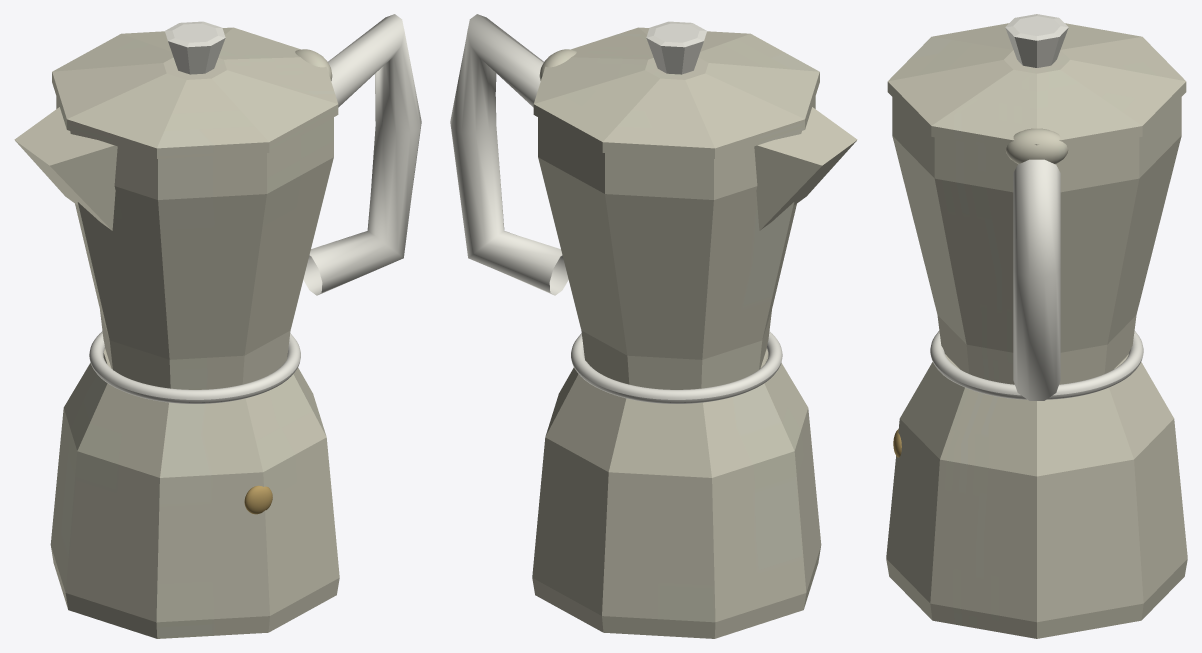
The model's file is cookware__white_moka_pot.glb.
3 renders of one model, left to right at view 1: azimuth 30°, elevation 25°; view 2: azimuth 150°, elevation 25°; view 3: azimuth 270°, elevation 25°, orthographic.
Visible parts, largest first — view 1: collector, boiler, lid; view 2: collector, boiler, lid; view 3: boiler, collector, lid.
Part boxes in pixels (left/top/right/bottom): collector: left=14, top=14, right=421, bottom=403; boiler: left=50, top=348, right=339, bottom=638; lid: left=52, top=21, right=338, bottom=158; collector: left=450, top=14, right=857, bottom=403; boiler: left=532, top=348, right=821, bottom=638; lid: left=533, top=21, right=819, bottom=158; boiler: left=886, top=354, right=1187, bottom=638; collector: left=892, top=97, right=1181, bottom=400; lid: left=887, top=14, right=1186, bottom=149.
Size of the model in its own units: 0.1132 by 0.153 by 0.076.
Materials: 3 (1 with a texture image).
